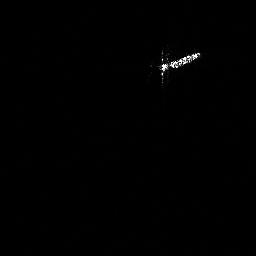ship: (153, 47, 204, 83)
